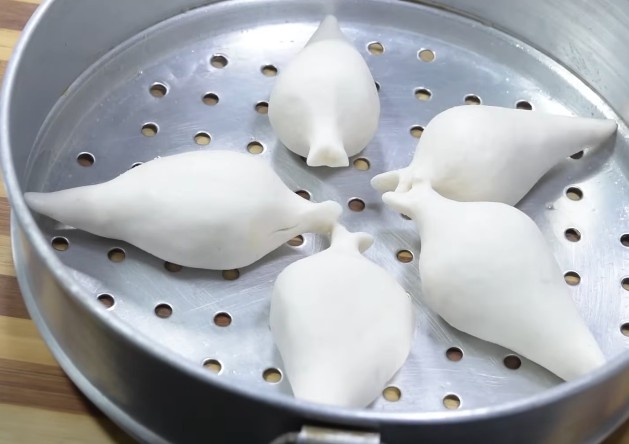yomari: (383, 180, 599, 371), (30, 152, 337, 248), (368, 102, 618, 188), (291, 219, 389, 396), (283, 20, 387, 168)
